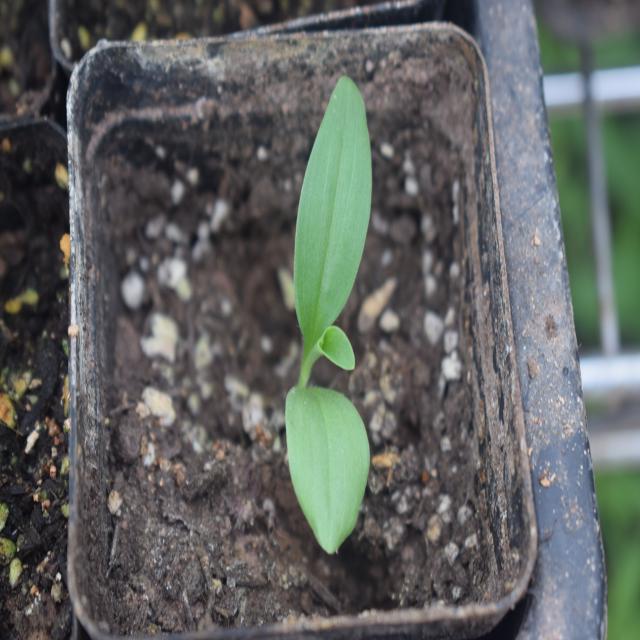Common Dayflower: (275, 94, 401, 568)
